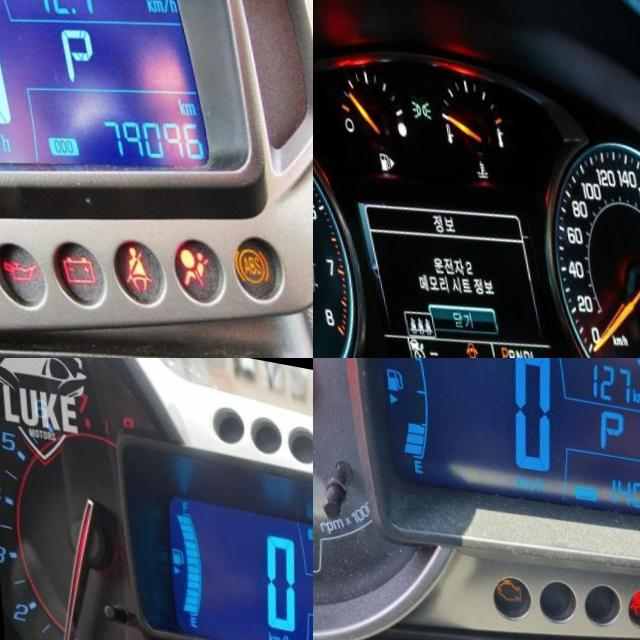Doors: (455, 328, 470, 351)
SideLamp: (404, 84, 428, 110)
